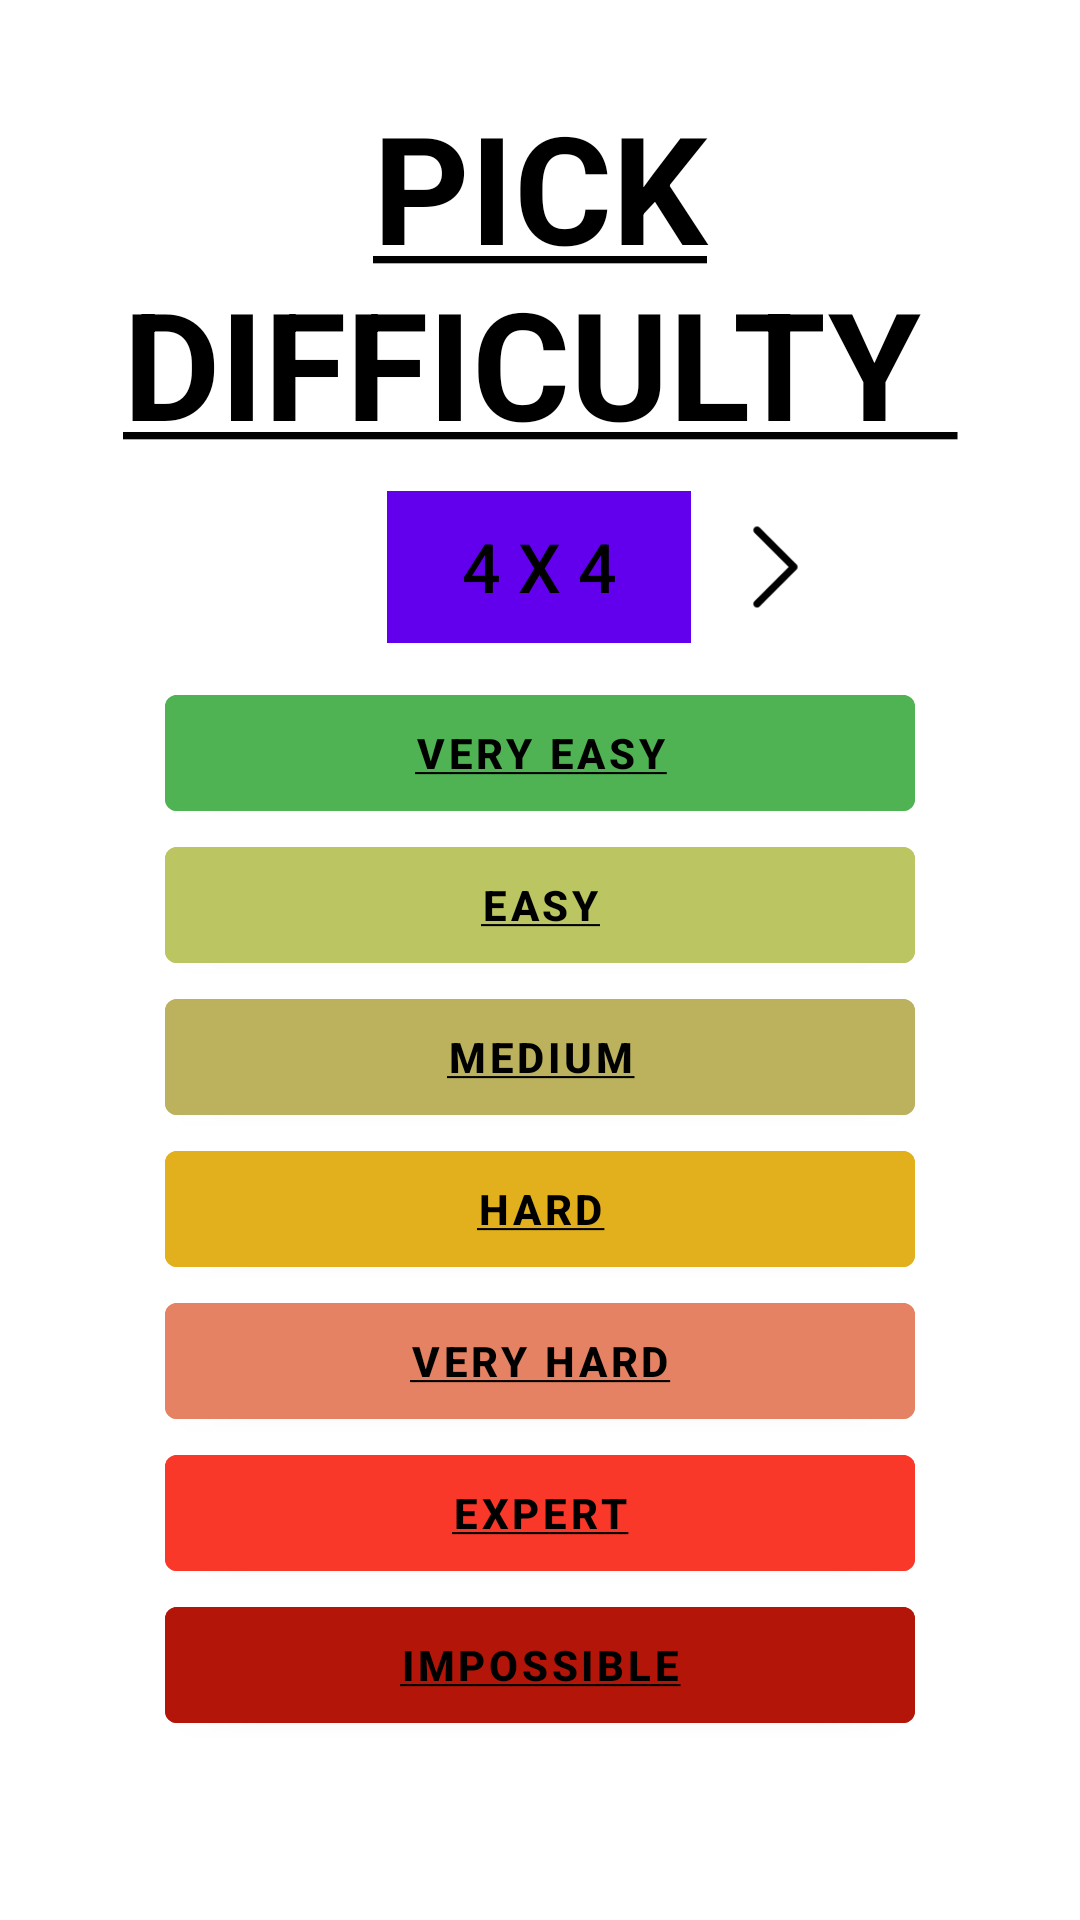

Icons on this 1080 × 1920 Android screen, each with its box as (x1, y1, x2, y2):
next: (753, 526, 798, 608)
